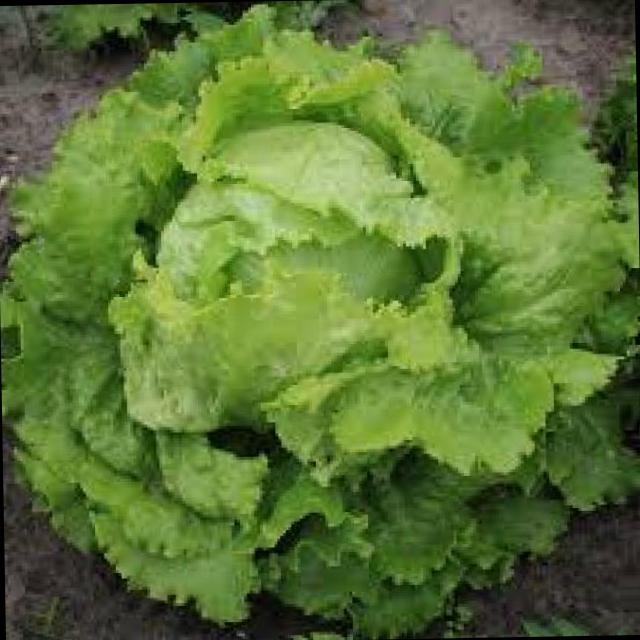Lettuce-Ready-to-Harvest: (0, 6, 640, 640)
